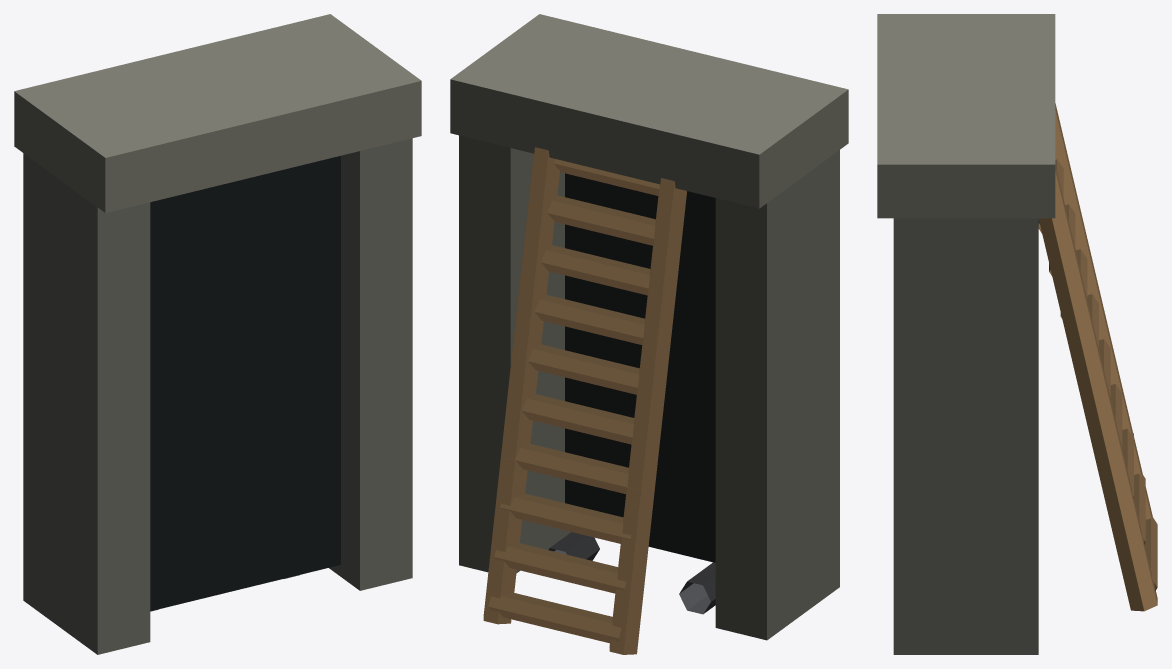
3 views of the same model, side by side, from view 1: azimuth 30°, elevation 25°; view 2: azimuth 150°, elevation 25°; view 3: azimuth 270°, elevation 25° (orthographic). The views are drawn at different scales.
Parts seen in each view (by area): view 1: 2e725e11fc9579c0b82d02b8beeacbf3aa87d15795e288a393a795520e3e; view 2: 2e725e11fc9579c0b82d02b8beeacbf3aa87d15795e288a393a795520e3e; view 3: 2e725e11fc9579c0b82d02b8beeacbf3aa87d15795e288a393a795520e3e.
Part boxes in pixels (x1,y1,x2,y2): 2e725e11fc9579c0b82d02b8beeacbf3aa87d15795e288a393a795520e3e: (14,14,421,654); 2e725e11fc9579c0b82d02b8beeacbf3aa87d15795e288a393a795520e3e: (450,14,848,654); 2e725e11fc9579c0b82d02b8beeacbf3aa87d15795e288a393a795520e3e: (877,14,1157,654).
Size of the model in its own units: 2.7 by 4.13 by 2.13.
Materials: 3 (1 with a texture image).
